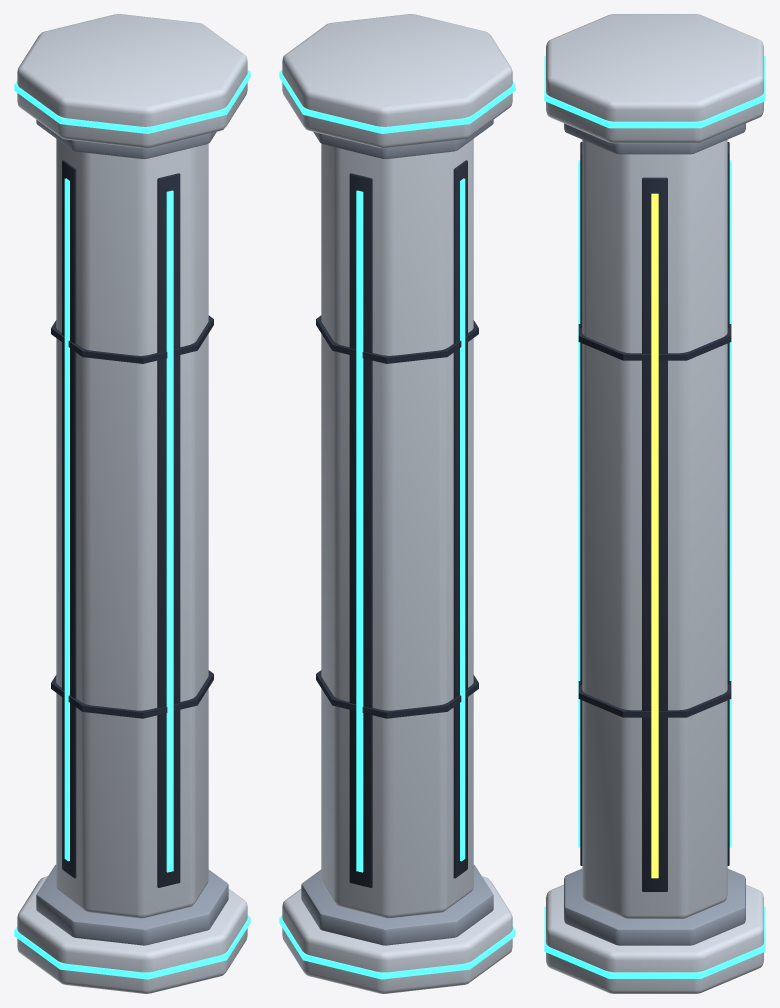
Rendered from pillar.glb.
The picture shows the model from 3 angles, left to right: view 1: azimuth 30°, elevation 25°; view 2: azimuth 150°, elevation 25°; view 3: azimuth 270°, elevation 25°; orthographic projection.
Parts seen in each view (by area): view 1: pillar; view 2: pillar; view 3: pillar.
Boxes of the visible parts, bbox=[...] form: pillar: bbox=[14, 14, 250, 993]; pillar: bbox=[279, 14, 515, 993]; pillar: bbox=[544, 14, 765, 993].
Bounding box in the file's own units: 0.6744 × 3 × 0.6744.
